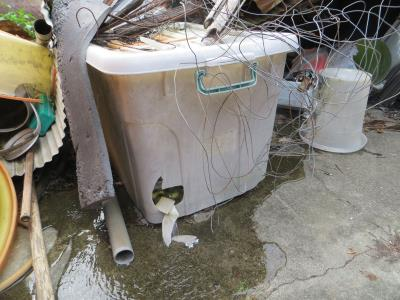box: (85, 21, 299, 223)
bucket: (298, 66, 372, 153)
